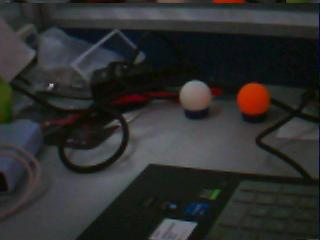oball: (237, 82, 270, 114)
